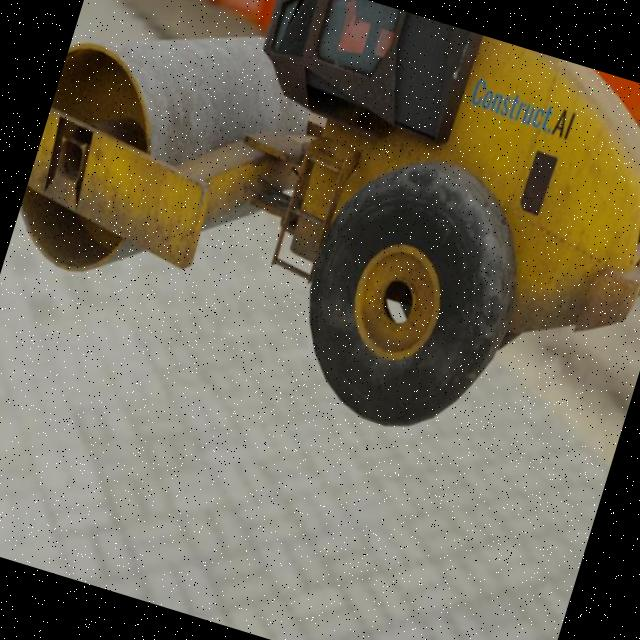Roller: (0, 0, 640, 490)
